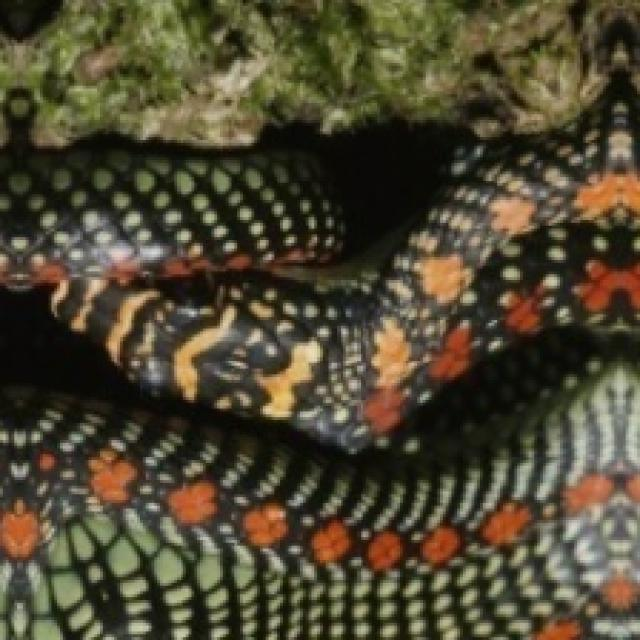paradise tree snake: (0, 0, 637, 637), (40, 0, 637, 449), (257, 117, 483, 271)
